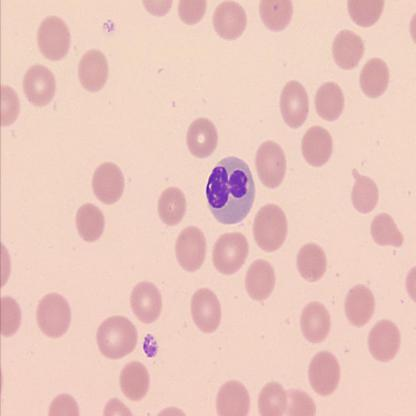NRC: (207, 155, 256, 224)
